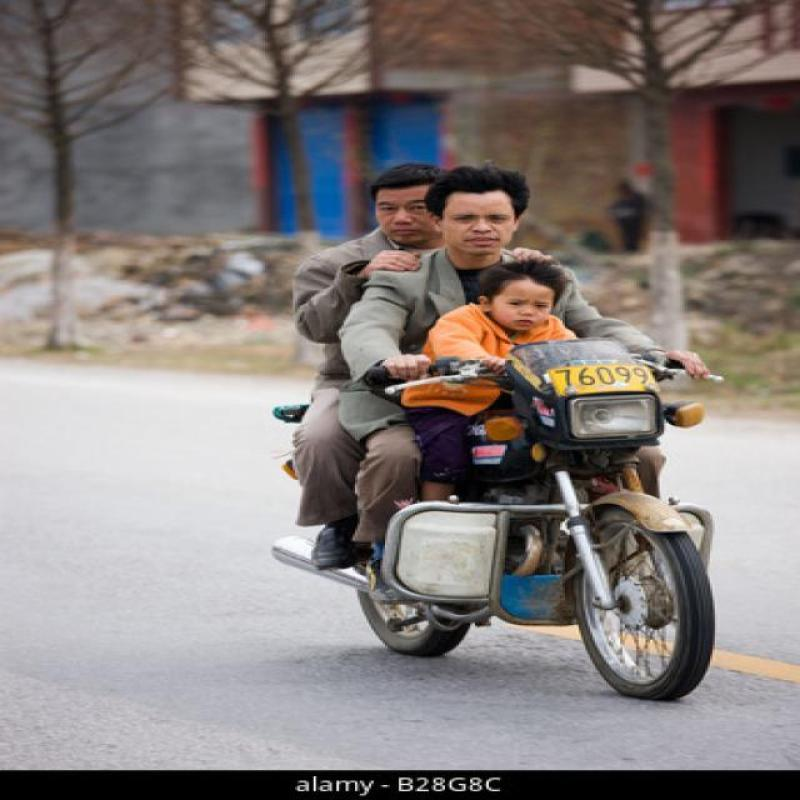nohelmet: (416, 152, 546, 262), (468, 262, 582, 332)
